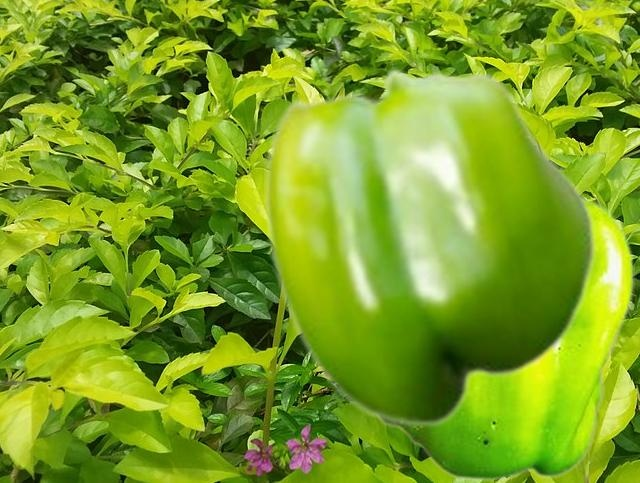bell_pepper: (264, 67, 596, 427), (377, 193, 633, 480)
